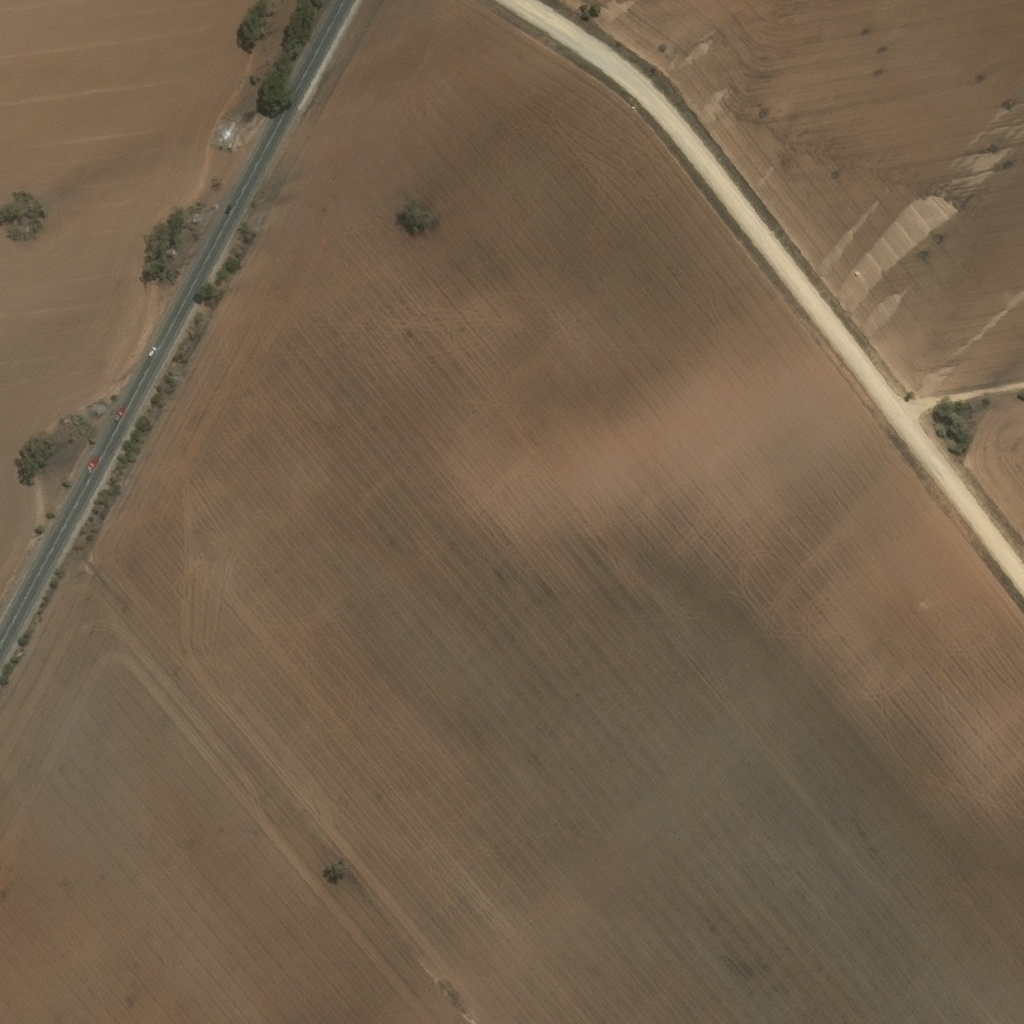3 destroyed: (215, 127, 232, 146)
